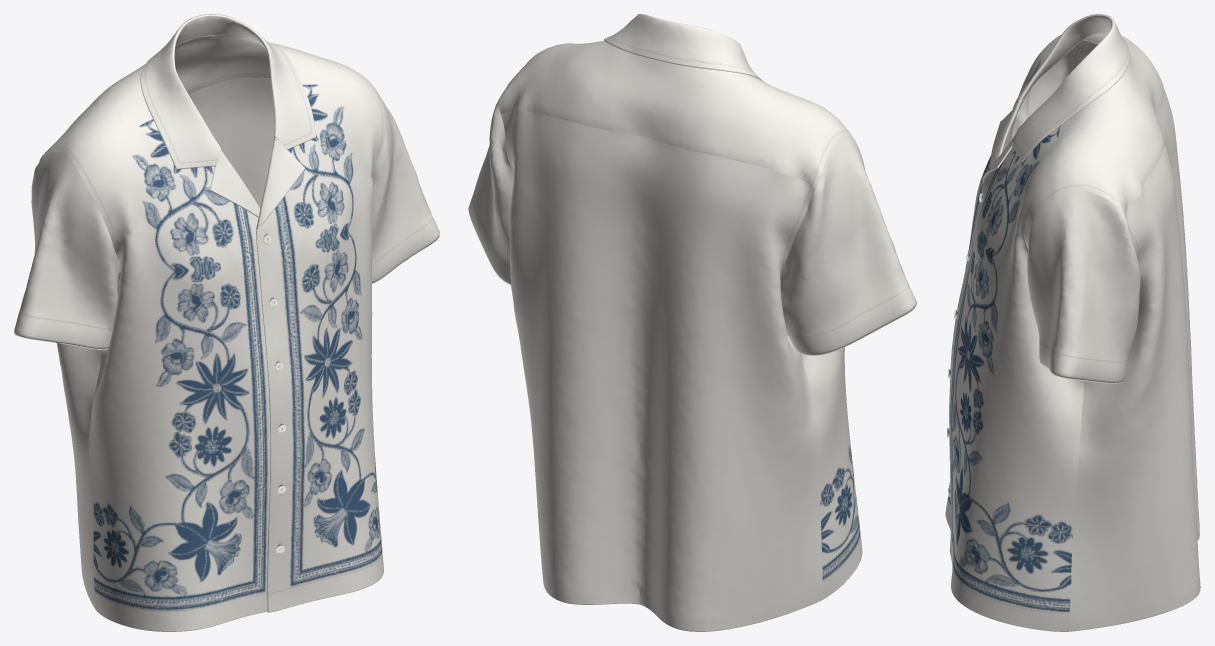
Rendered from 3d-half-sheeve-shirt-white.fbx.
3 renders of one model, left to right at view 1: azimuth 30°, elevation 25°; view 2: azimuth 150°, elevation 25°; view 3: azimuth 270°, elevation 25°, orthographic. The views are drawn at different scales.
Visible parts, largest first — view 1: SH DOBY STP FR, SH DOBY STP FR_1, SH DOBY STP SLV_1, SH DOBY STP BK, SH DOBY STP COL_1, SH DOBY STP YK, SH DOBY STP SLV, SH DOBY STP YK_1, SH DOBY STP FR_5, SH DOBY STP FR_4; view 2: SH DOBY STP BK, SH DOBY STP YK, SH DOBY STP SLV_1, SH DOBY STP FR, SH DOBY STP COL_1, SH DOBY STP SLV; view 3: SH DOBY STP FR_1, SH DOBY STP BK, SH DOBY STP SLV, SH DOBY STP YK, SH DOBY STP COL_1, SH DOBY STP SLV_1, SH DOBY STP FR, SH DOBY STP FR_4.
Part boxes in pixels (left/top/right/bottom): SH DOBY STP FR: left=79, top=119, right=270, bottom=631; SH DOBY STP FR_1: left=256, top=84, right=385, bottom=612; SH DOBY STP SLV_1: left=14, top=152, right=120, bottom=349; SH DOBY STP BK: left=56, top=77, right=274, bottom=610; SH DOBY STP COL_1: left=140, top=14, right=315, bottom=169; SH DOBY STP YK: left=40, top=43, right=381, bottom=171; SH DOBY STP SLV: left=371, top=92, right=439, bottom=283; SH DOBY STP YK_1: left=175, top=34, right=270, bottom=94; SH DOBY STP FR_5: left=256, top=136, right=304, bottom=612; SH DOBY STP FR_4: left=211, top=148, right=260, bottom=216; SH DOBY STP BK: left=501, top=110, right=822, bottom=631; SH DOBY STP YK: left=499, top=41, right=852, bottom=188; SH DOBY STP SLV_1: left=780, top=136, right=916, bottom=355; SH DOBY STP FR: left=802, top=135, right=862, bottom=599; SH DOBY STP COL_1: left=604, top=14, right=764, bottom=82; SH DOBY STP SLV: left=468, top=96, right=514, bottom=285; SH DOBY STP FR_1: left=949, top=126, right=1084, bottom=631; SH DOBY STP BK: left=1068, top=88, right=1200, bottom=631; SH DOBY STP SLV: left=1027, top=190, right=1140, bottom=383; SH DOBY STP YK: left=1050, top=35, right=1164, bottom=215; SH DOBY STP COL_1: left=1012, top=14, right=1129, bottom=161; SH DOBY STP SLV_1: left=1028, top=40, right=1097, bottom=116; SH DOBY STP FR: left=945, top=41, right=1055, bottom=529; SH DOBY STP FR_4: left=989, top=57, right=1061, bottom=168.
Bounding box in the file's own units: 610 × 752 × 318.
2 materials, 2 textured.
